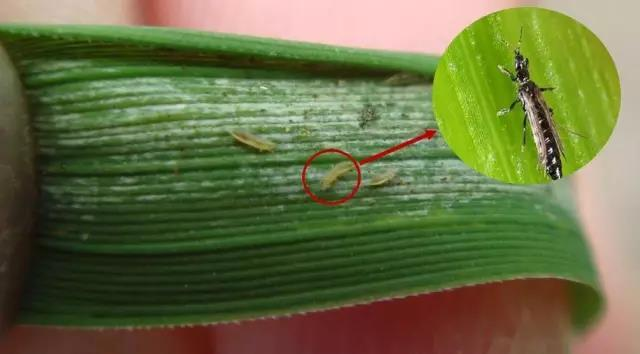Phlaeothripidae: (494, 29, 590, 181)
